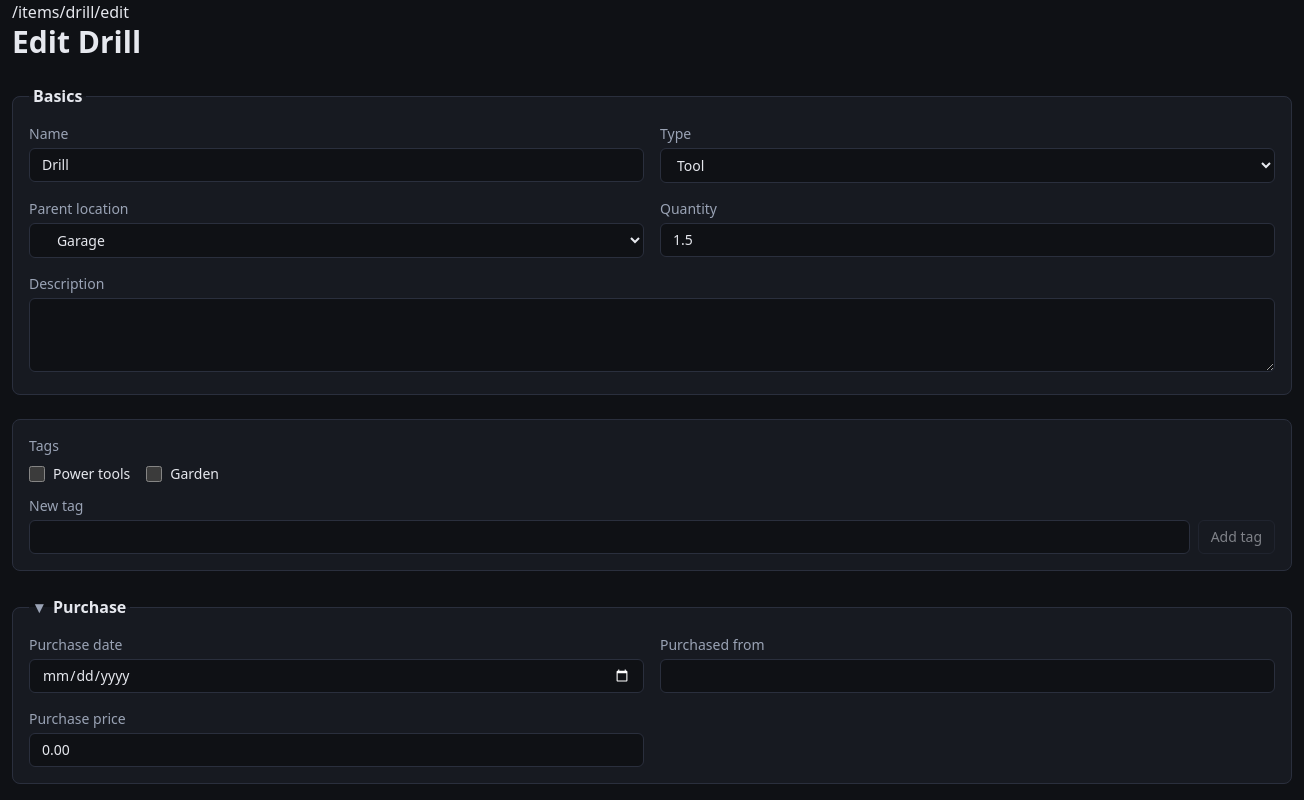
EditEntityPage › saves the full input and returns to the item page
The width and height of the screenshot is (1304, 800).
Check: the heading "Edit Drill" is shown, box [12, 21, 141, 62]
Check: the checkbox labelled "Garden" is shown, box [146, 466, 162, 482]
Replace the text in the field labelled "Name" with "Hammer drill" at (336,165), box [29, 148, 644, 182]
(page scrolled)
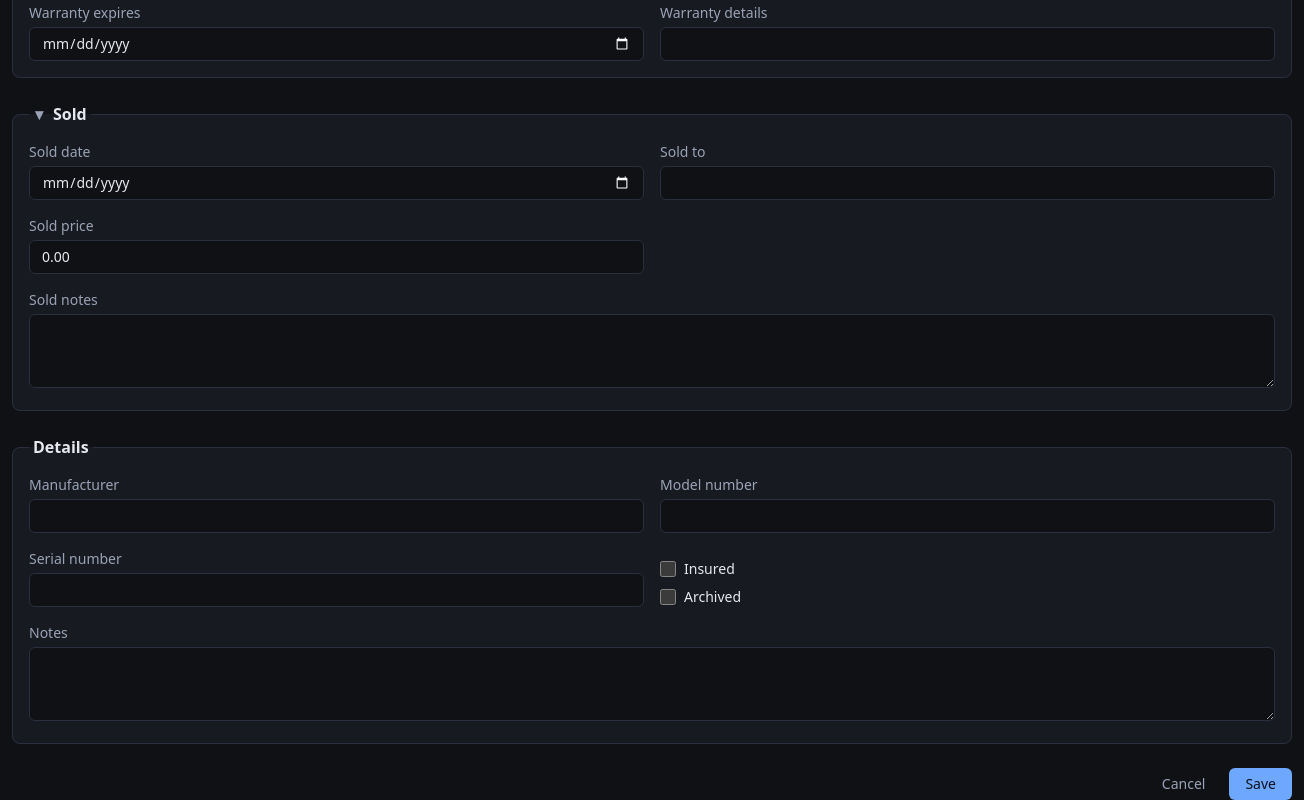
Click the button "Save" at (1261,784), box [1229, 768, 1292, 799]
(page scrolled)
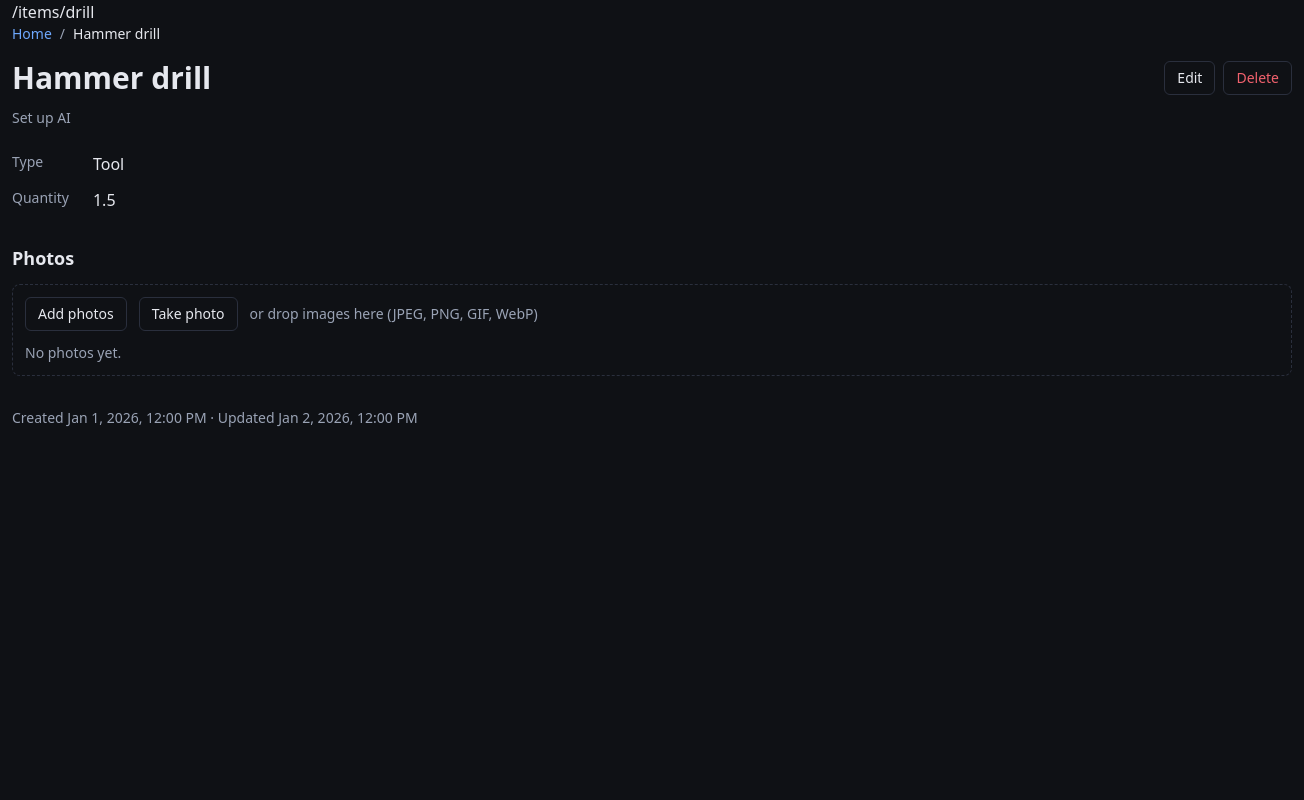
Check: the text with test id "current-path" reads "/items/drill", box [12, 1, 94, 23]
Check: the heading "Hammer drill" is shown, box [12, 60, 211, 96]
